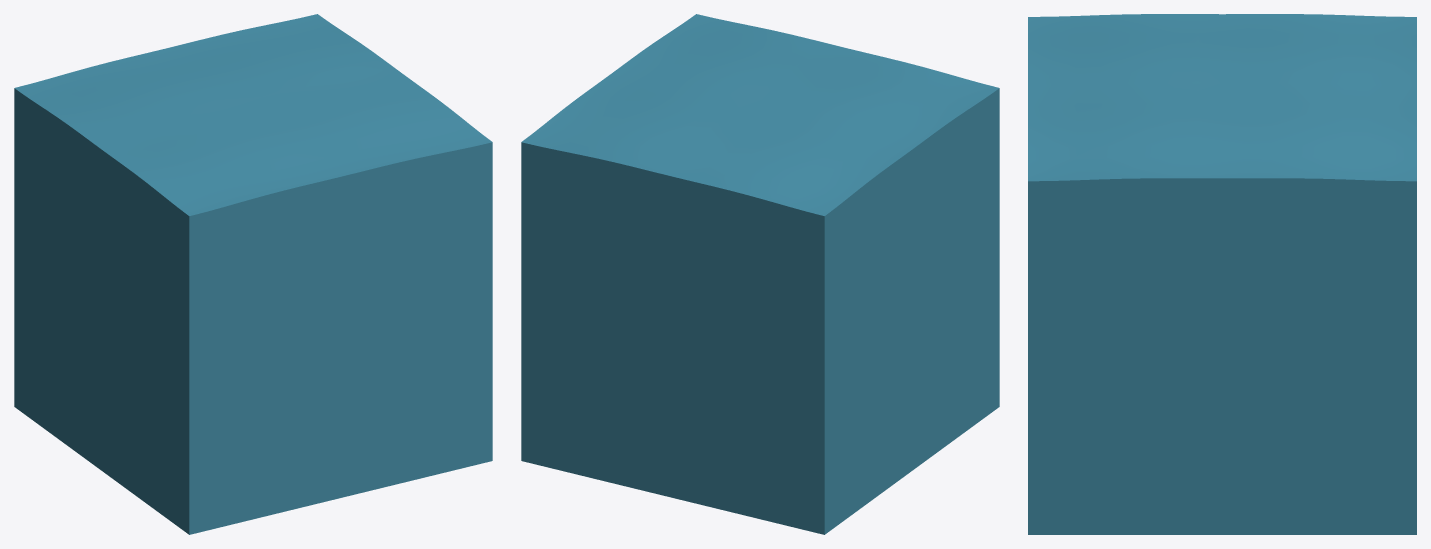
The model's file is slpool_wave59.glb.
3 renders of one model, left to right at view 1: azimuth 30°, elevation 25°; view 2: azimuth 150°, elevation 25°; view 3: azimuth 270°, elevation 25°, orthographic. The views are drawn at different scales.
Parts seen in each view (by area): view 1: poolWater; view 2: poolWater; view 3: poolWater.
Part boxes in pixels (x1,y1,x2,y2): poolWater: [14, 14, 492, 534]; poolWater: [521, 14, 999, 534]; poolWater: [1028, 14, 1416, 534].
Bounding box in the file's own units: 2 × 2.04 × 2.
